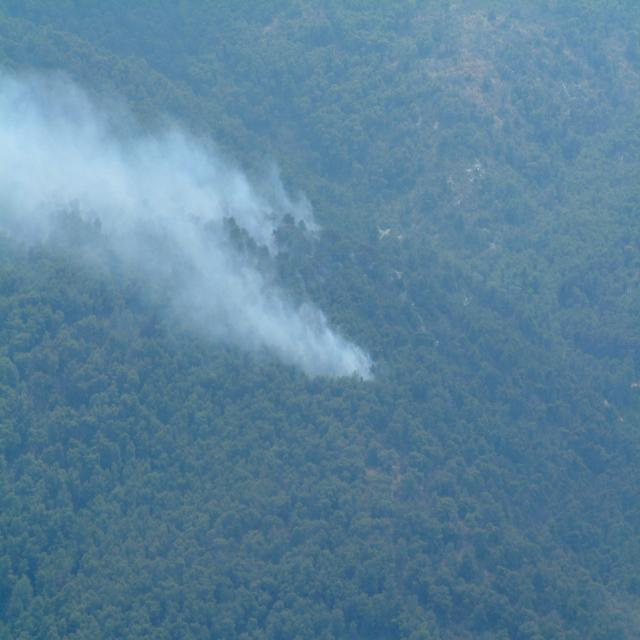Smoke: (0, 69, 378, 382)
